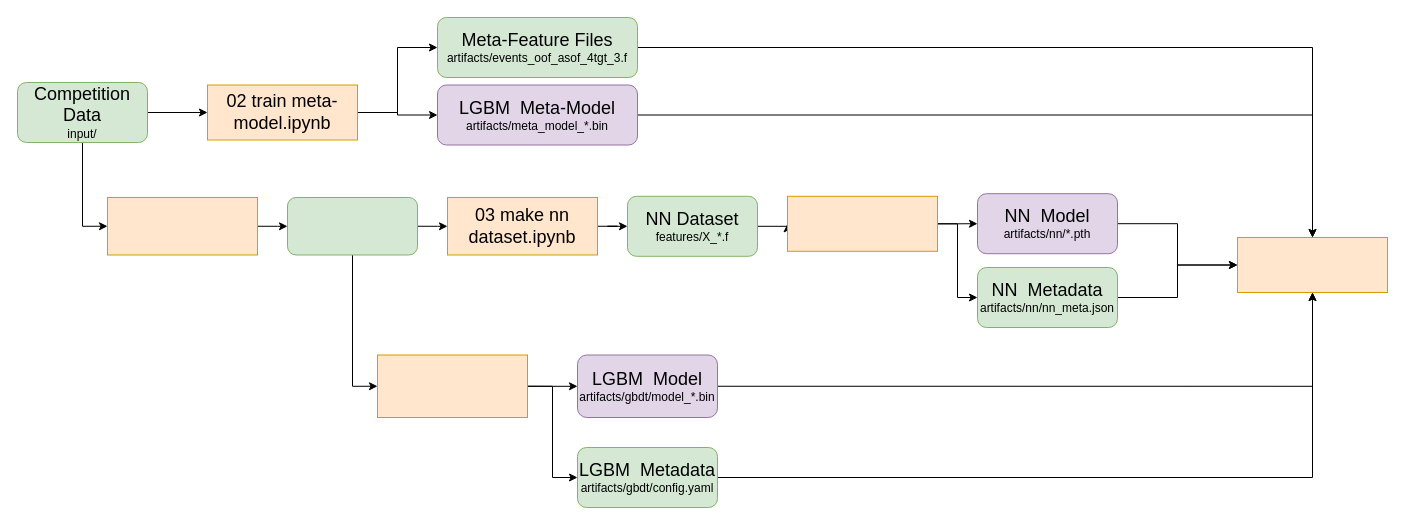
Some shapes in this 1405 by 525 pixel diagram are drawn without their labels. Each missing label, with the centre of its shape:
"01 generate features.ipynb" goes at [182,225].
"04 train lightgbm.ipynb" goes at [452,386].
"05 train nn.ipynb" goes at [862,223].
"Feature Files features/*.f" goes at [352,225].
"mlb-inference.ipynb" goes at [1312,264].
